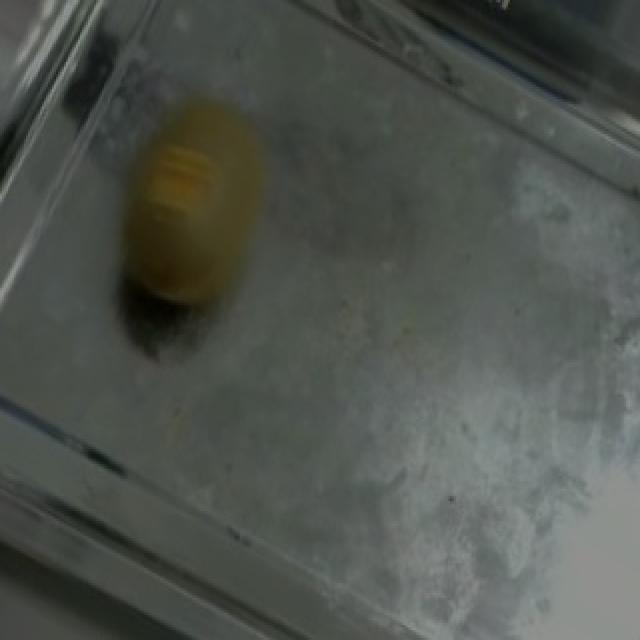Fruit: (68, 49, 314, 350)
